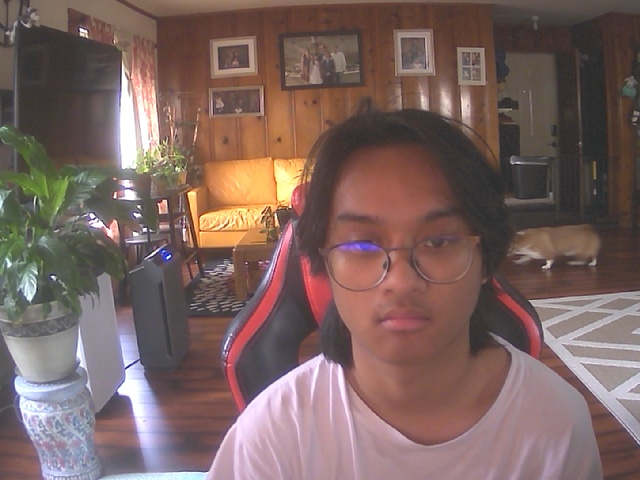neutral: (320, 117, 500, 370)
